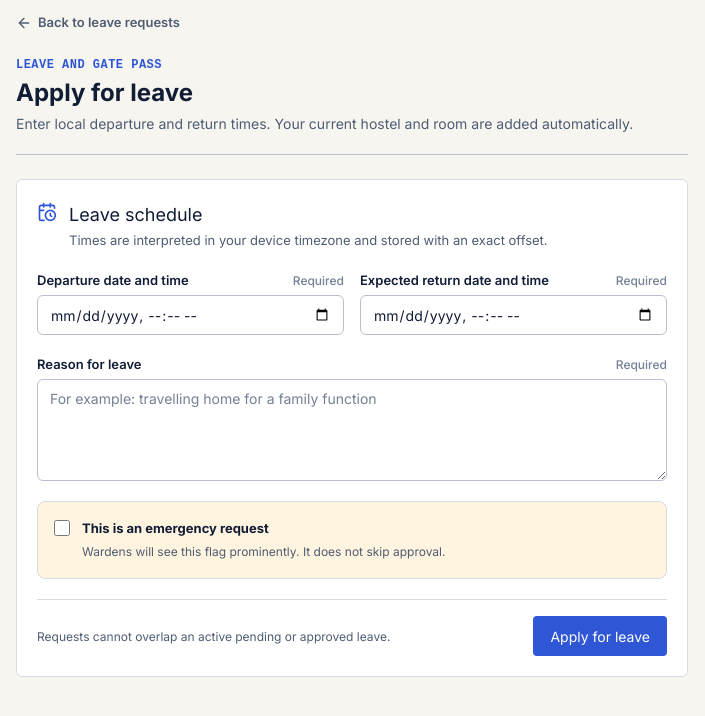
Scenario: student leave and gate-pass flow › keeps invalid date ranges on the client and focuses return time
Type "2099-10-12T18:00" into the field labelled "Departure date and time".
click(190, 315); type("2099-10-12T18:00")  # box [37,295,344,335]
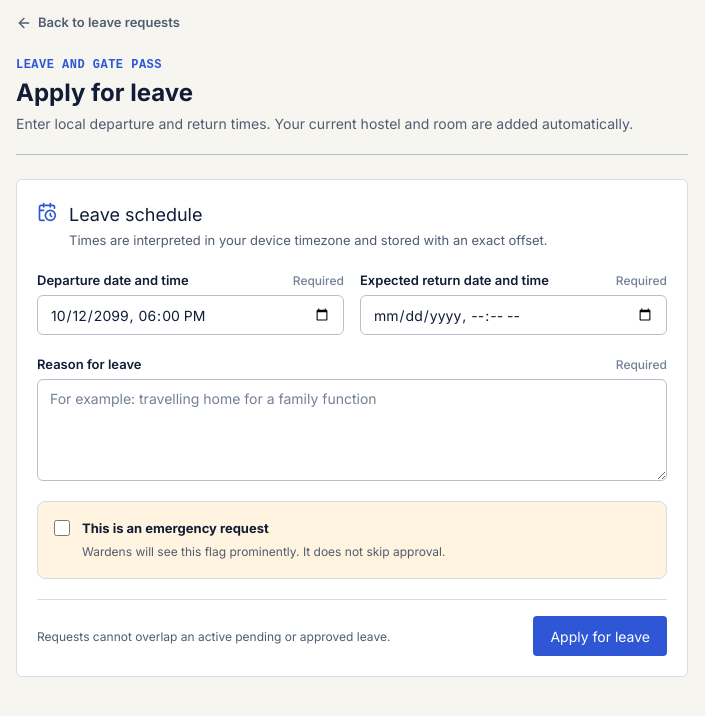
Type "2099-10-10T08:30" into the field labelled "Expected return date and time".
click(514, 315); type("2099-10-10T08:30")  # box [360,295,667,335]
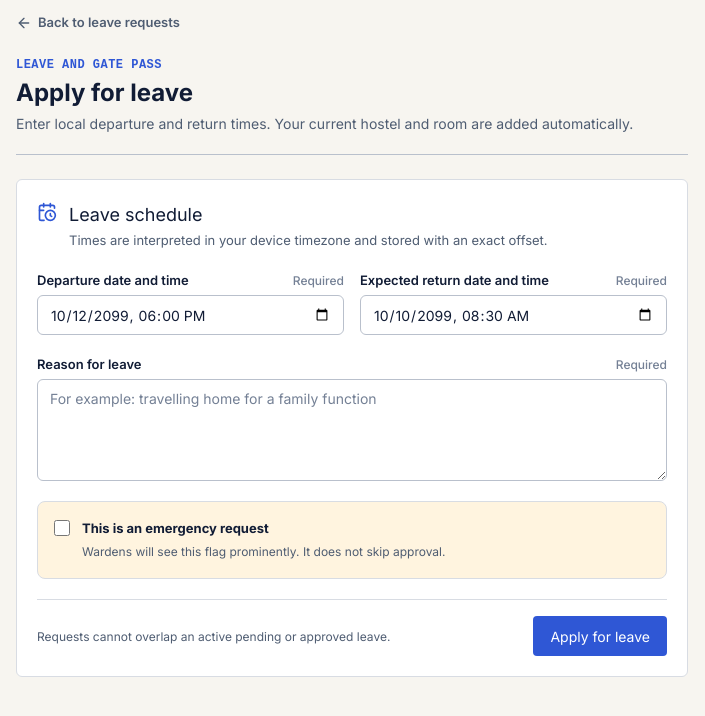
Type "Going home" into the text box labelled "Reason for leave".
click(352, 430); type("Going home")  # box [37,379,667,481]
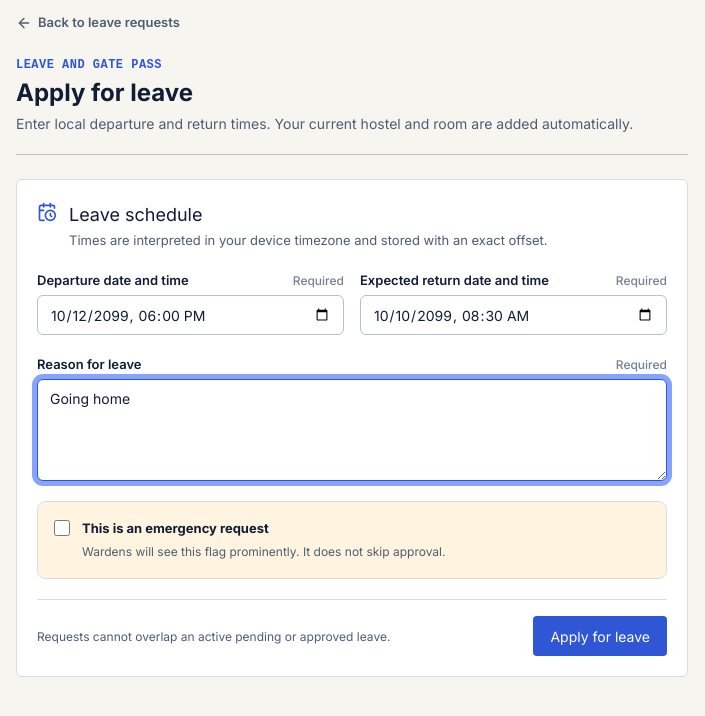
Click the button "Apply for leave".
click(600, 636)  # box [534,616,667,656]
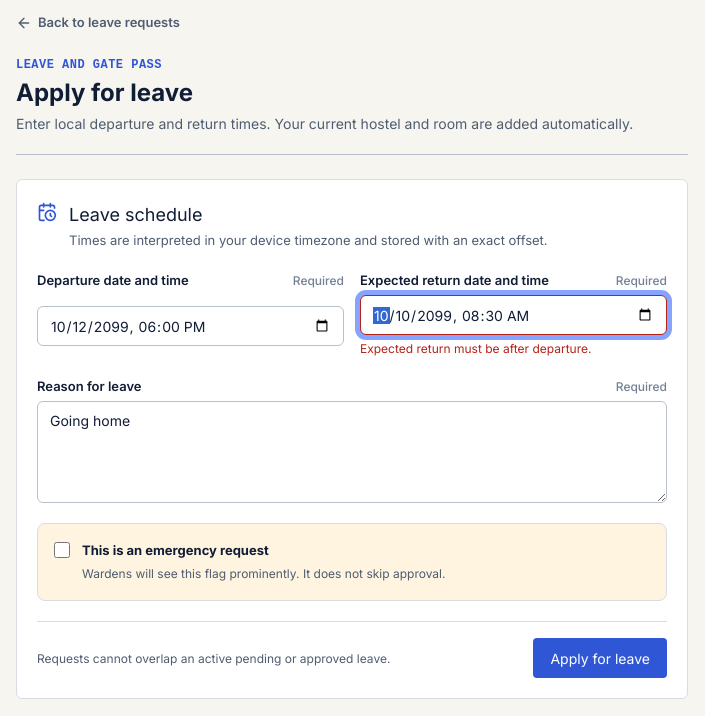
Result: the message reads "Expected return must be after departure." at [360,341,592,356]
